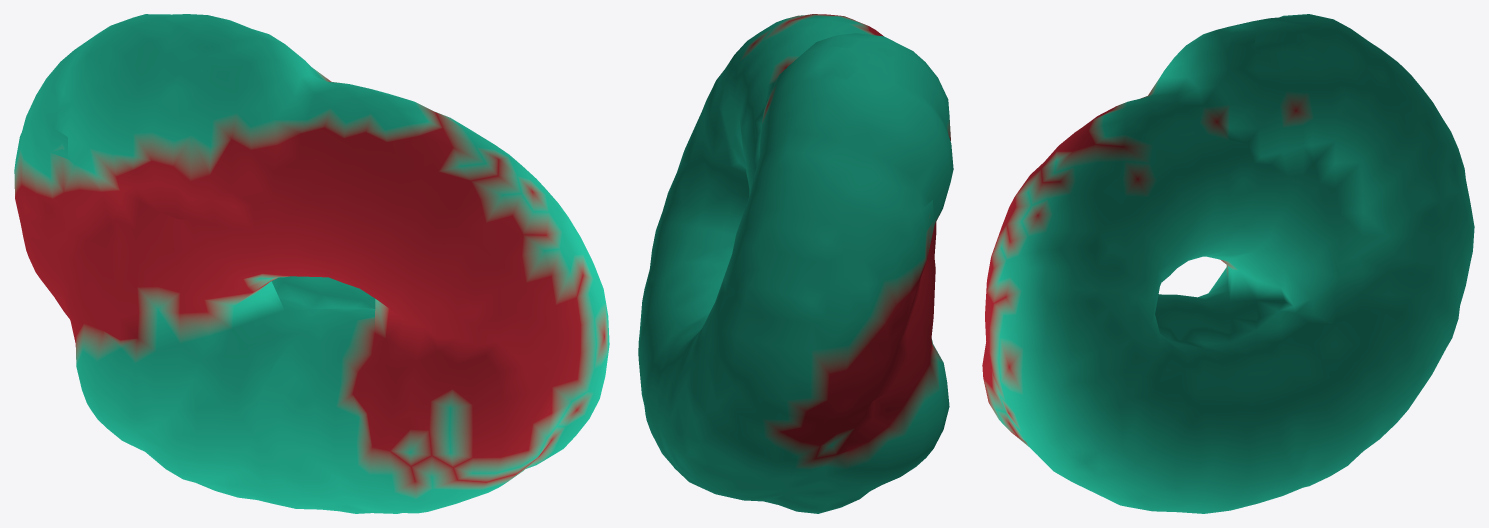
File: sculptVR_text.glb
3 renders of one model, left to right at view 1: azimuth 30°, elevation 25°; view 2: azimuth 150°, elevation 25°; view 3: azimuth 270°, elevation 25°, orthographic. The views are drawn at different scales.
Visible parts, largest first — view 1: 1_Node; view 2: 1_Node; view 3: 1_Node.
Part boxes in pixels (box(x1,y1,x2,y2)): 1_Node: box(14, 14, 609, 513); 1_Node: box(638, 14, 953, 513); 1_Node: box(982, 14, 1474, 513).
Size of the model in its own units: 6.19 by 6.94 by 7.46.
